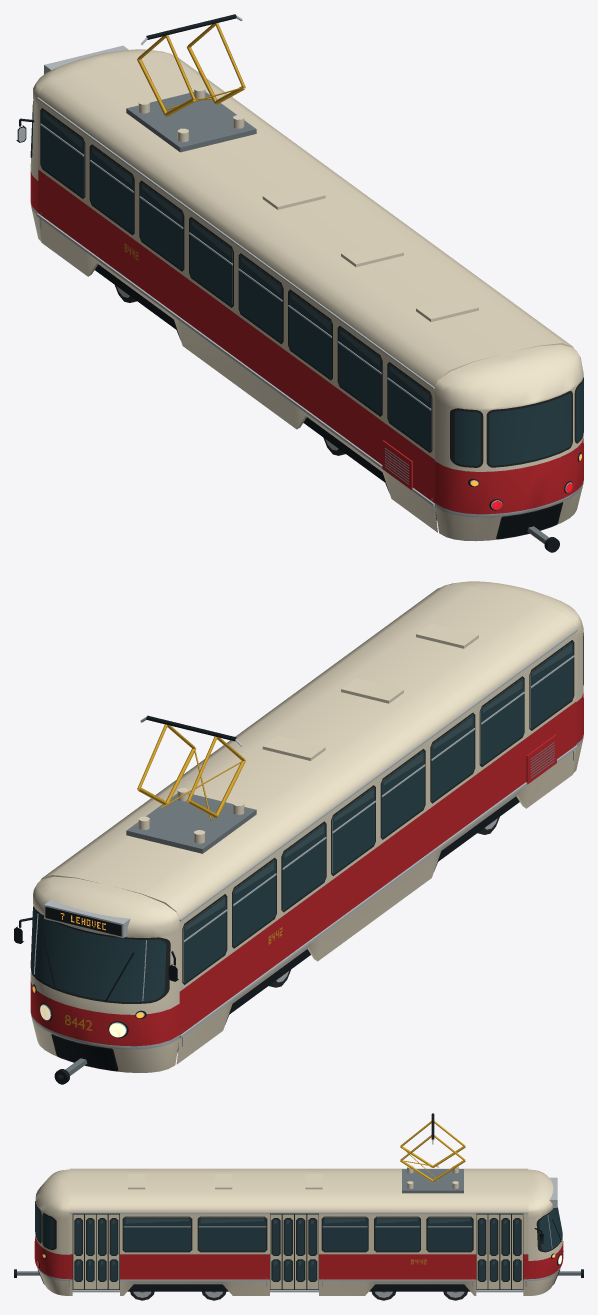
Rendered from t3rp-viewer.glb.
3 renders of one model, top to bottom at view 1: azimuth 30°, elevation 25°; view 2: azimuth 150°, elevation 25°; view 3: azimuth 270°, elevation 25°, orthographic. The views are drawn at different scales.
Parts seen in each view (by area): view 1: t3rp; view 2: t3rp; view 3: t3rp, t3rp-door-1-0.120-0, t3rp-door-1-0.120-3, t3rp-door-1-0.120-1, t3rp-door-1-0.120-2, t3rp-door-1-5.370-1, t3rp-door-1--5.320-2, t3rp-door-1--5.320-3, t3rp-door-1-5.370-0, t3rp-door-1-5.370-2, t3rp-door-1-5.370-3, t3rp-door-1--5.320-0 (+1 smaller).
Boxes of the visible parts, x1,y1,x2,y2 form: t3rp: [16, 14, 583, 552]; t3rp: [14, 581, 583, 1084]; t3rp: [14, 1113, 583, 1300]; t3rp-door-1-0.120-0: [307, 1214, 318, 1289]; t3rp-door-1-0.120-3: [270, 1214, 281, 1289]; t3rp-door-1-0.120-1: [295, 1214, 306, 1289]; t3rp-door-1-0.120-2: [282, 1214, 293, 1289]; t3rp-door-1-5.370-1: [96, 1214, 107, 1289]; t3rp-door-1--5.320-2: [488, 1214, 499, 1289]; t3rp-door-1--5.320-3: [476, 1214, 487, 1289]; t3rp-door-1-5.370-0: [108, 1214, 119, 1289]; t3rp-door-1-5.370-2: [85, 1214, 95, 1289]; t3rp-door-1-5.370-3: [73, 1214, 83, 1289]; t3rp-door-1--5.320-0: [512, 1214, 522, 1289].
Bounding box in the file's own units: 2.9 × 4.73 × 15.1.
